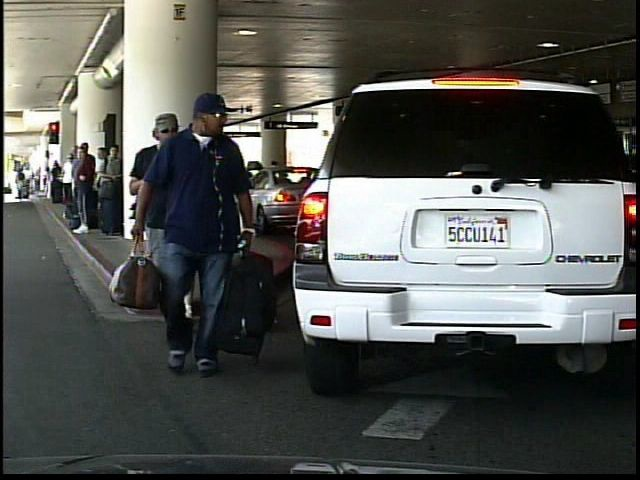person: (142, 87, 285, 385), (129, 101, 205, 317), (172, 133, 224, 260)
